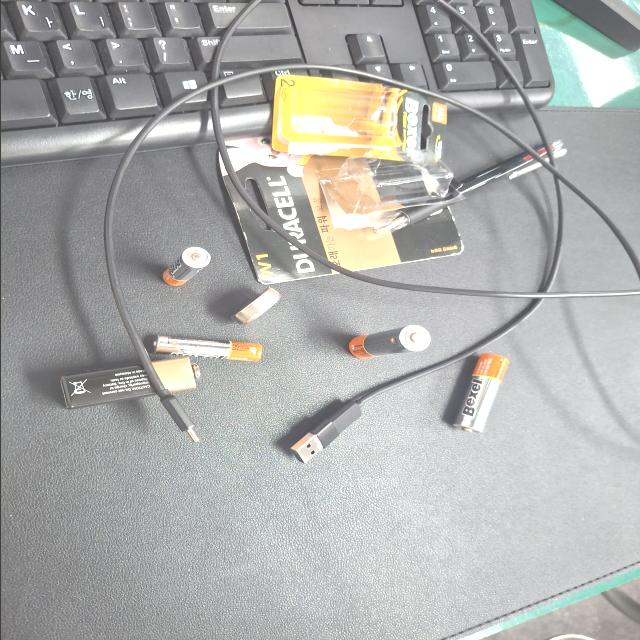9V: (261, 330, 331, 436)
AA: (354, 133, 432, 188), (220, 158, 265, 220)
AAA: (234, 284, 268, 366), (116, 323, 168, 359)
COIN: (166, 268, 224, 310)
